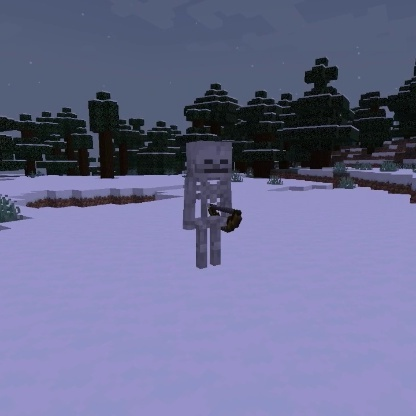skeleton: (179, 138, 245, 273)
